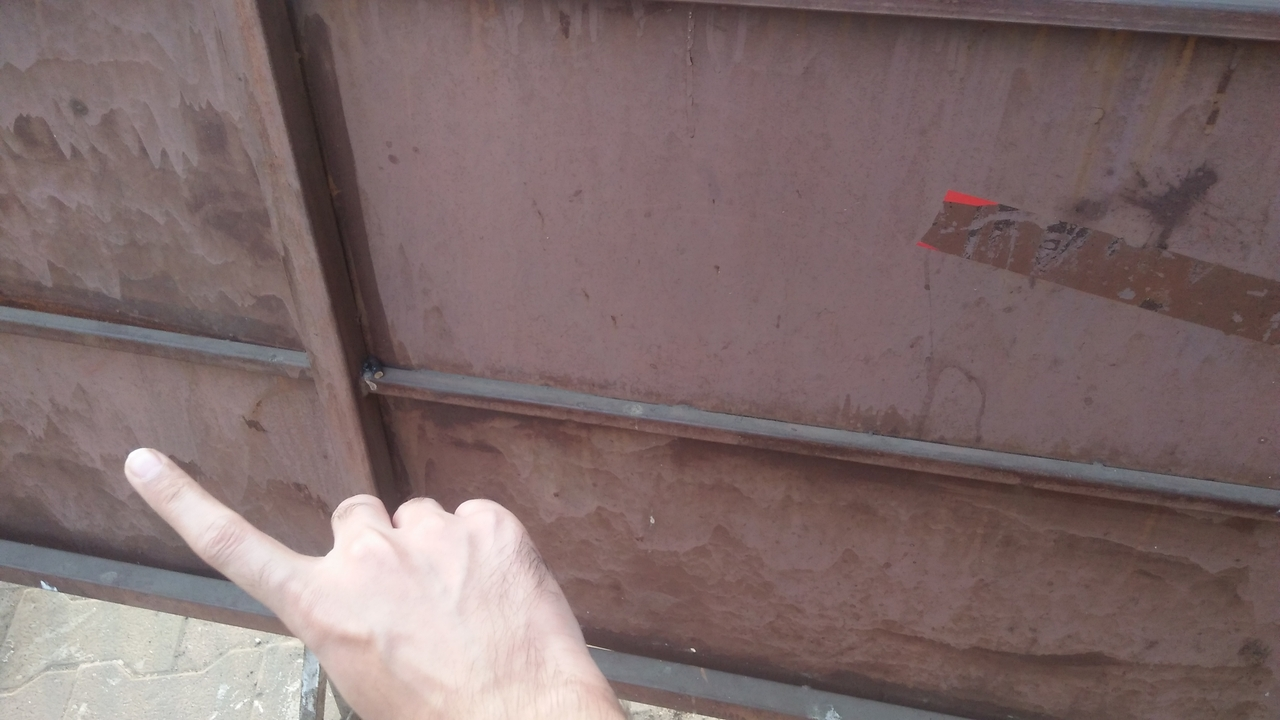fingertip: (118, 435, 178, 491)
